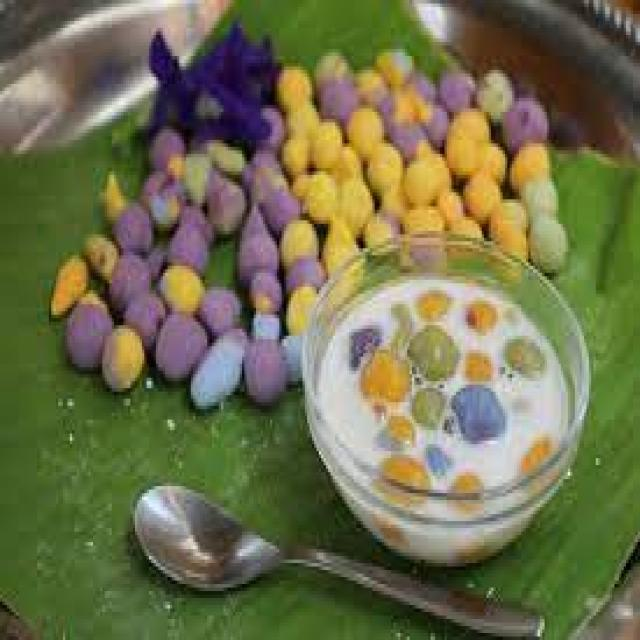Bualoy: (294, 232, 593, 578)
